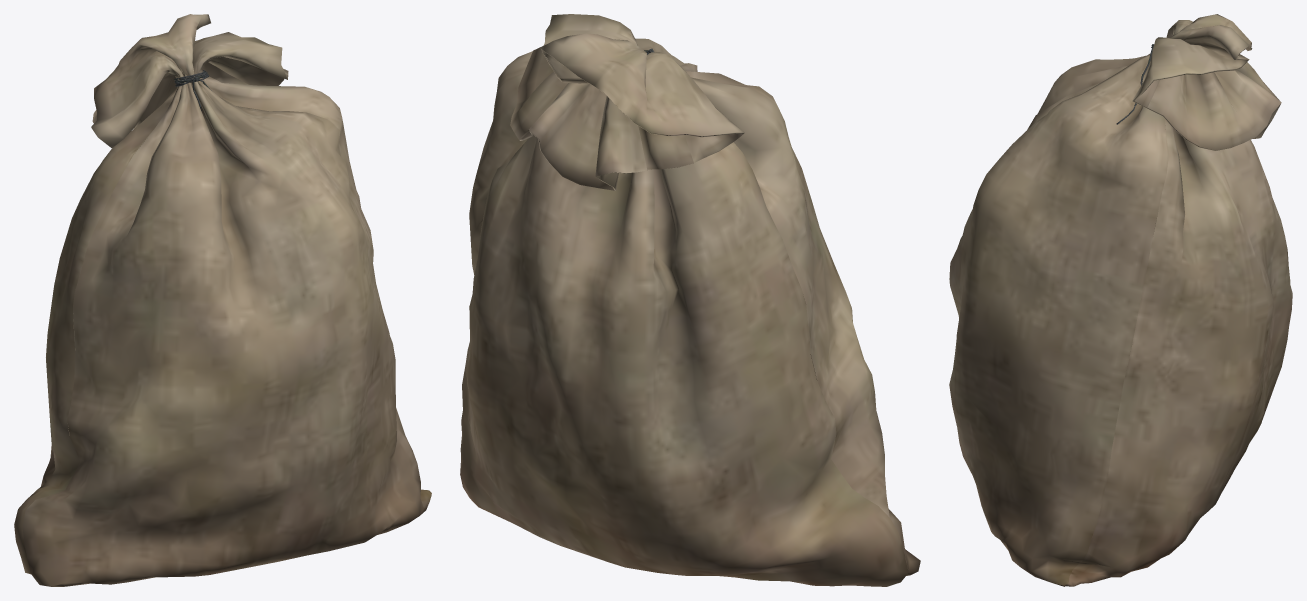
Rendered from obj_sack_v2.glb.
3 views of the same model, side by side, from view 1: azimuth 30°, elevation 25°; view 2: azimuth 150°, elevation 25°; view 3: azimuth 270°, elevation 25° (orthographic). The views are drawn at different scales.
Visible parts, largest first — view 1: sack_Material_0; view 2: sack_Material_0; view 3: sack_Material_0.
Part boxes in pixels (x1=…): sack_Material_0: x1=14, y1=14, x2=431, y2=586; sack_Material_0: x1=460, y1=14, x2=920, y2=586; sack_Material_0: x1=949, y1=14, x2=1292, y2=586.
Bounding box in the file's own units: 0.6127 × 0.7 × 0.4564.
1 material, 1 textured.
